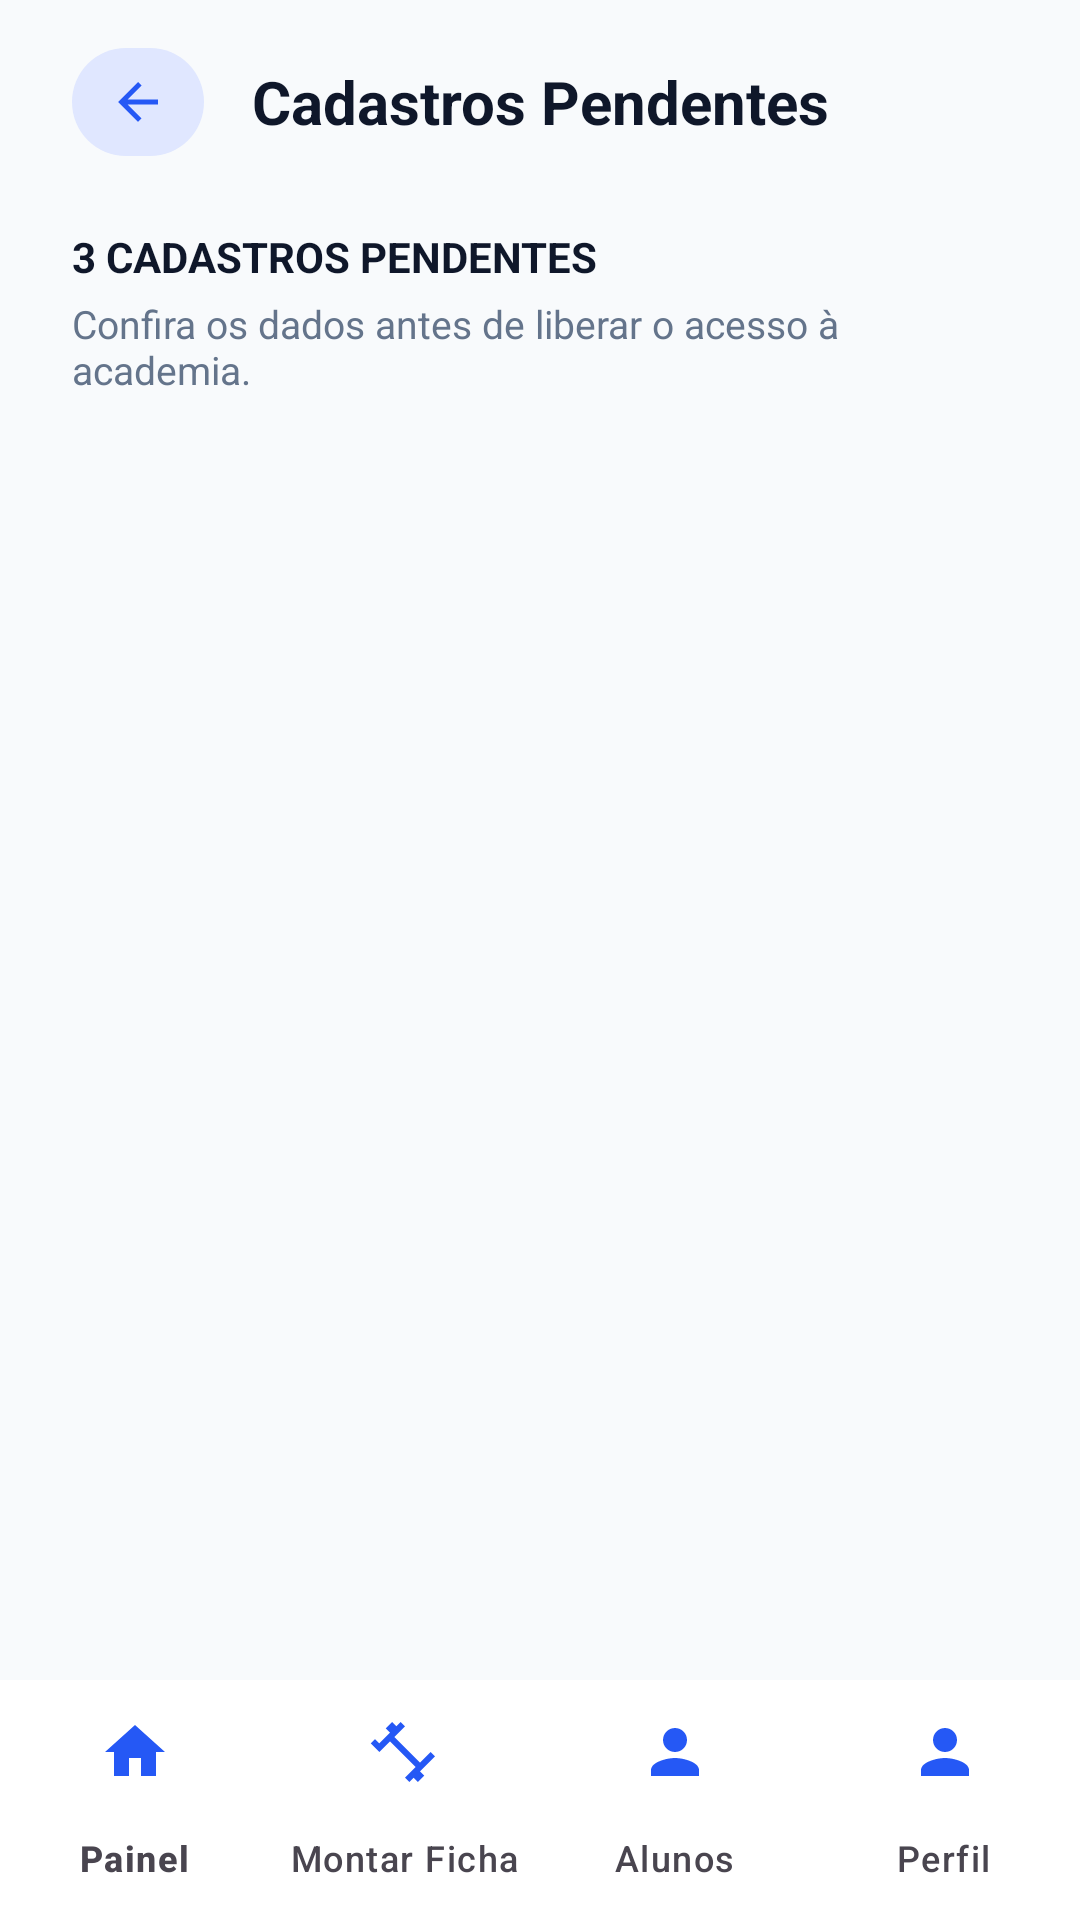

Icons on this 1080*1920 Android screen, each with its box as (x1, y1, x2, y2):
Voltar: (118, 82, 158, 122)
